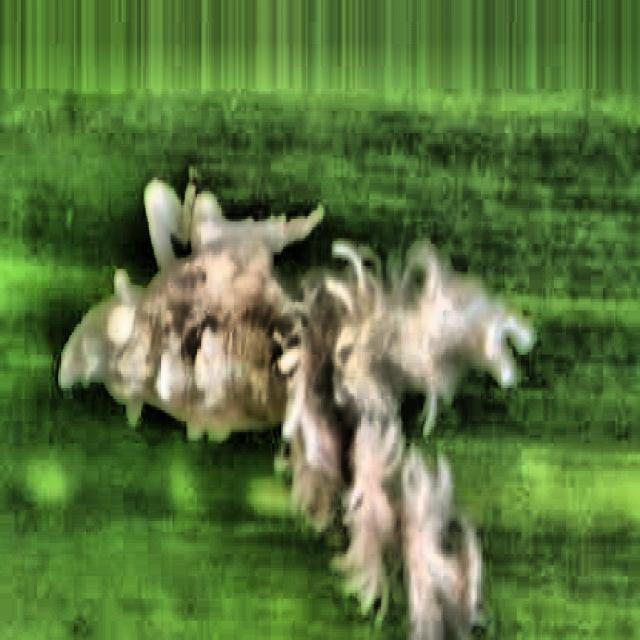Pyrilla-perpusilla: (38, 111, 570, 640)
